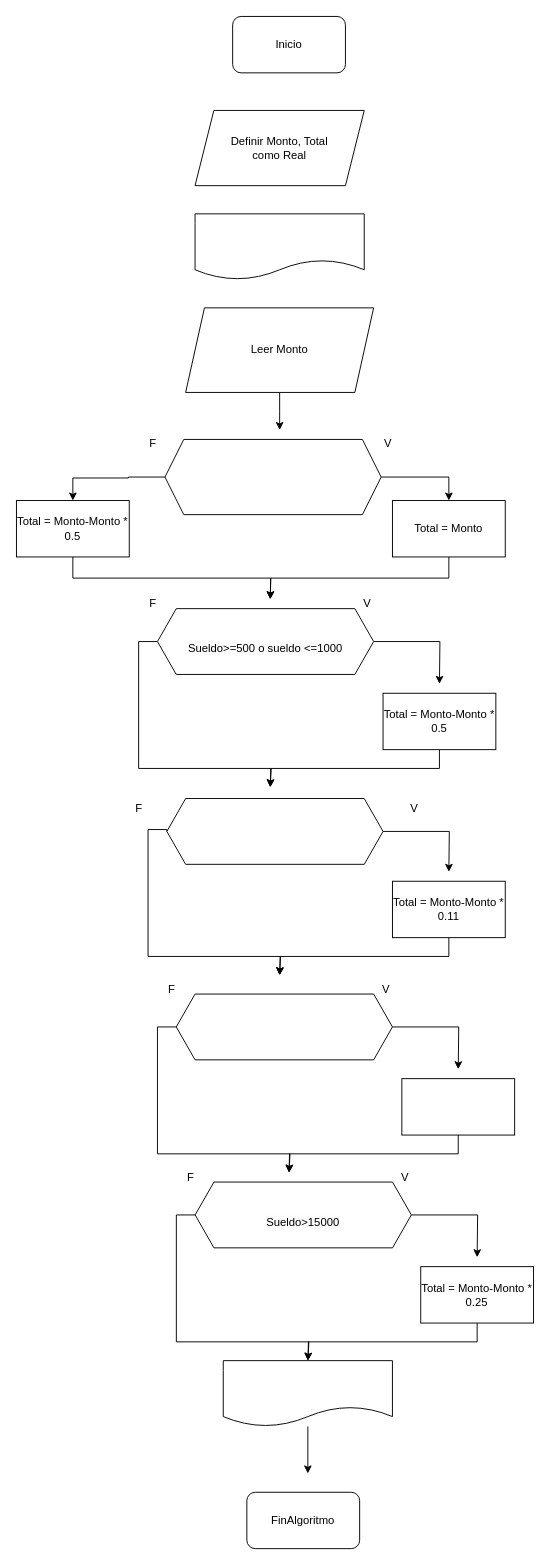
Some shapes in this 551 by 1565 pixel diagram are drawn without their labels. The shapes that lost their labels are listed below. From the top down, each one's centre as x and y in pixels, then its label:
(x=279, y=246): "Ingrese el Monto"
(x=272, y=477): Monto<= 500
(x=274, y=831): Sueldo>=1000 o sueldo <=7000
(x=283, y=1026): Sueldo>=7000 o sueldo <=15000
(x=458, y=1106): Total = Monto-Monto * 0.18
(x=307, y=1393): " El Monto total es", Monto
